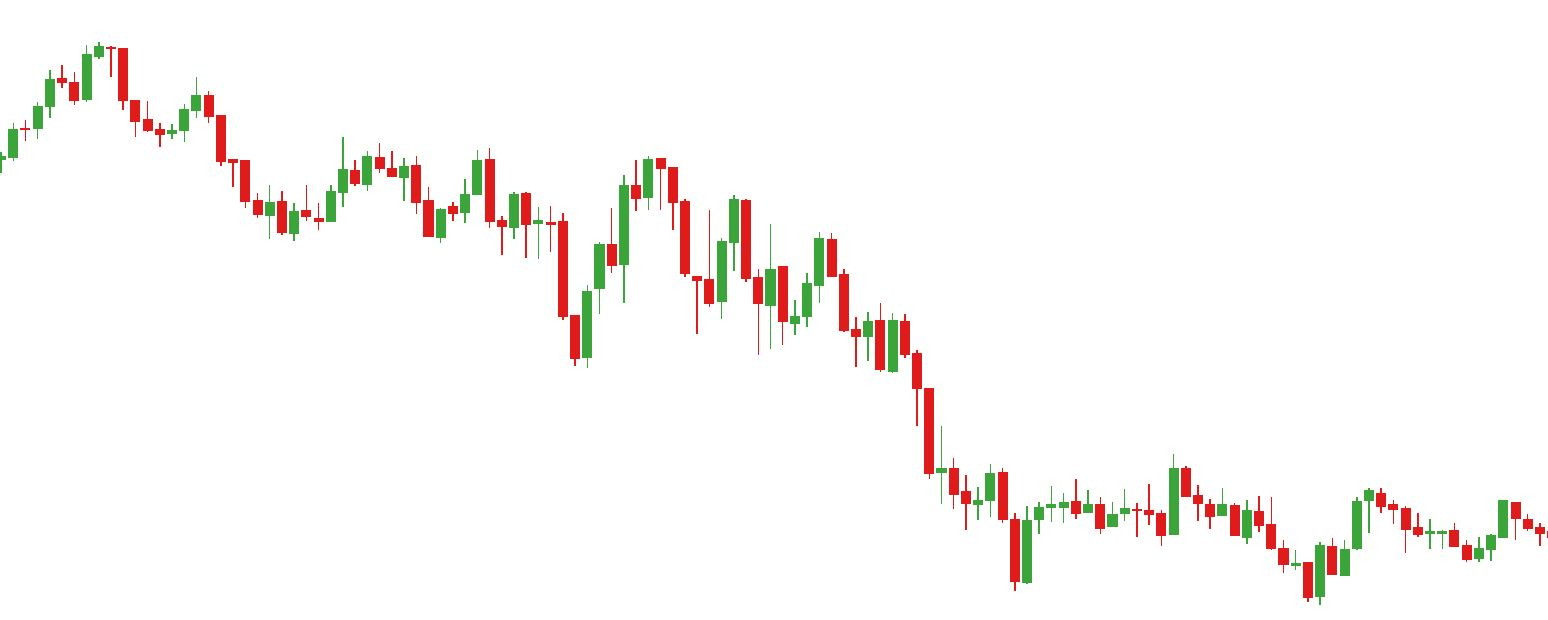buy: (692, 222, 776, 361)
sell: (408, 147, 498, 210)
